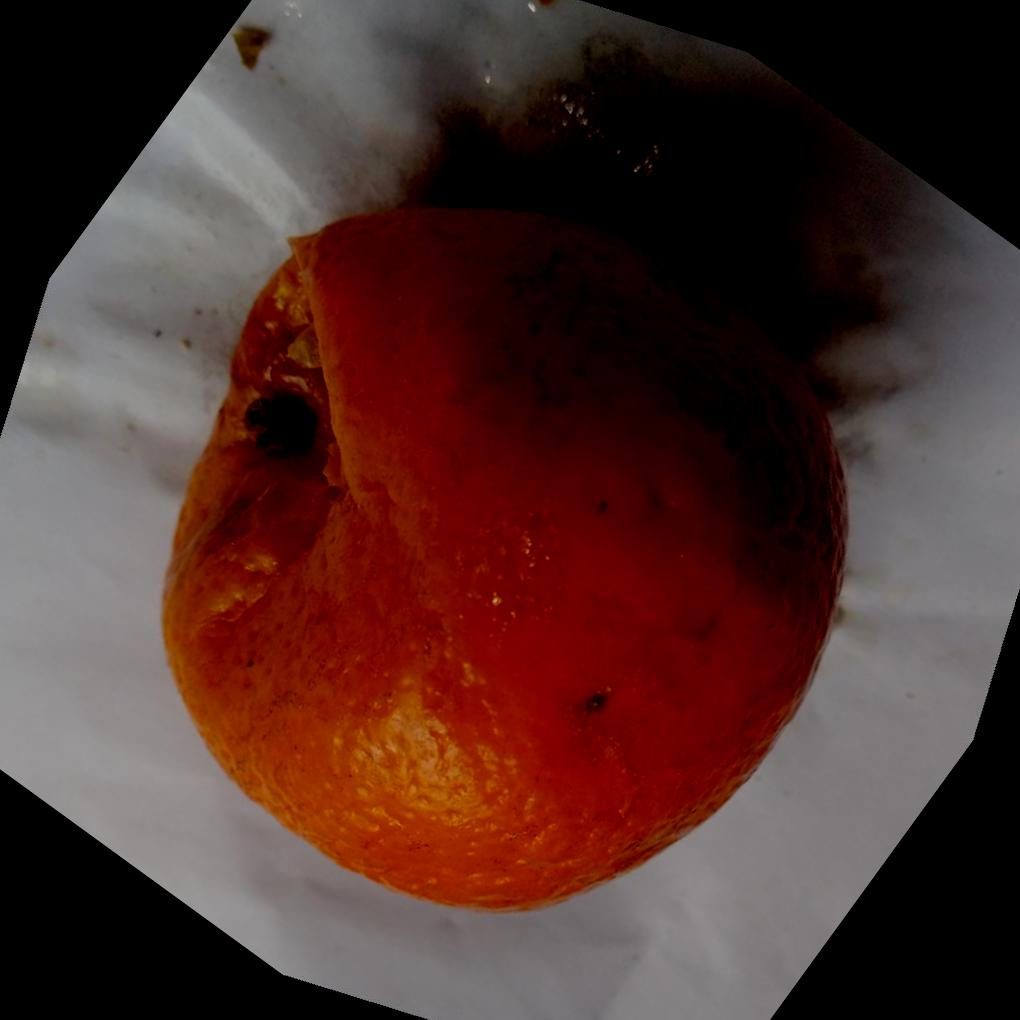FreshOrange: (154, 200, 849, 913)
